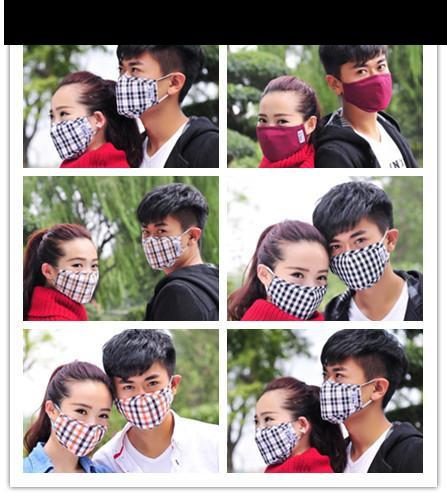OK: (113, 55, 178, 120), (327, 231, 391, 295), (276, 261, 335, 320), (61, 396, 119, 454), (317, 363, 371, 425), (347, 53, 403, 109), (46, 103, 101, 158), (112, 377, 167, 432), (139, 217, 192, 273), (252, 109, 306, 163), (250, 411, 301, 462), (59, 255, 105, 301)
